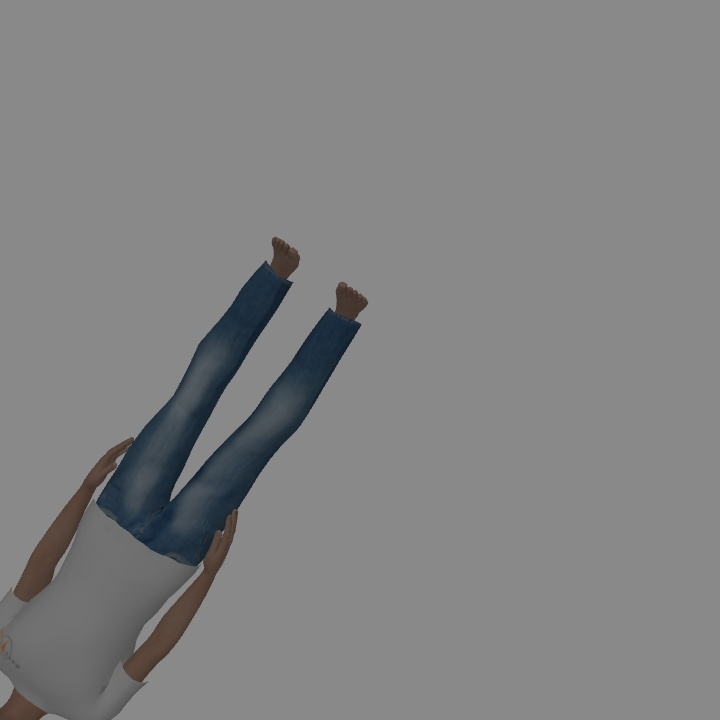victim: (4, 241, 363, 720)
